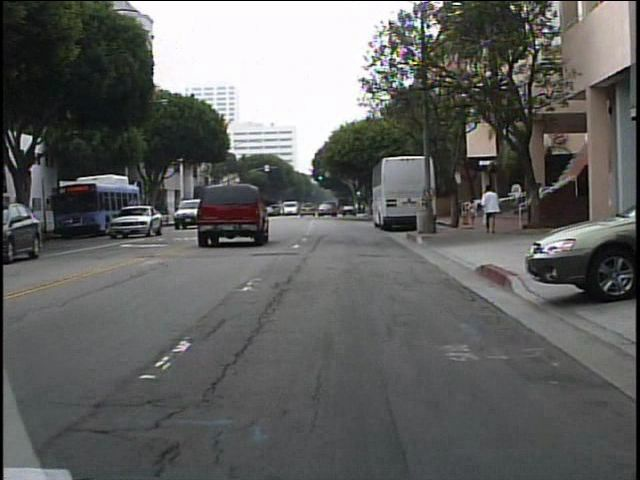person: (480, 182, 505, 237), (465, 195, 479, 227)
